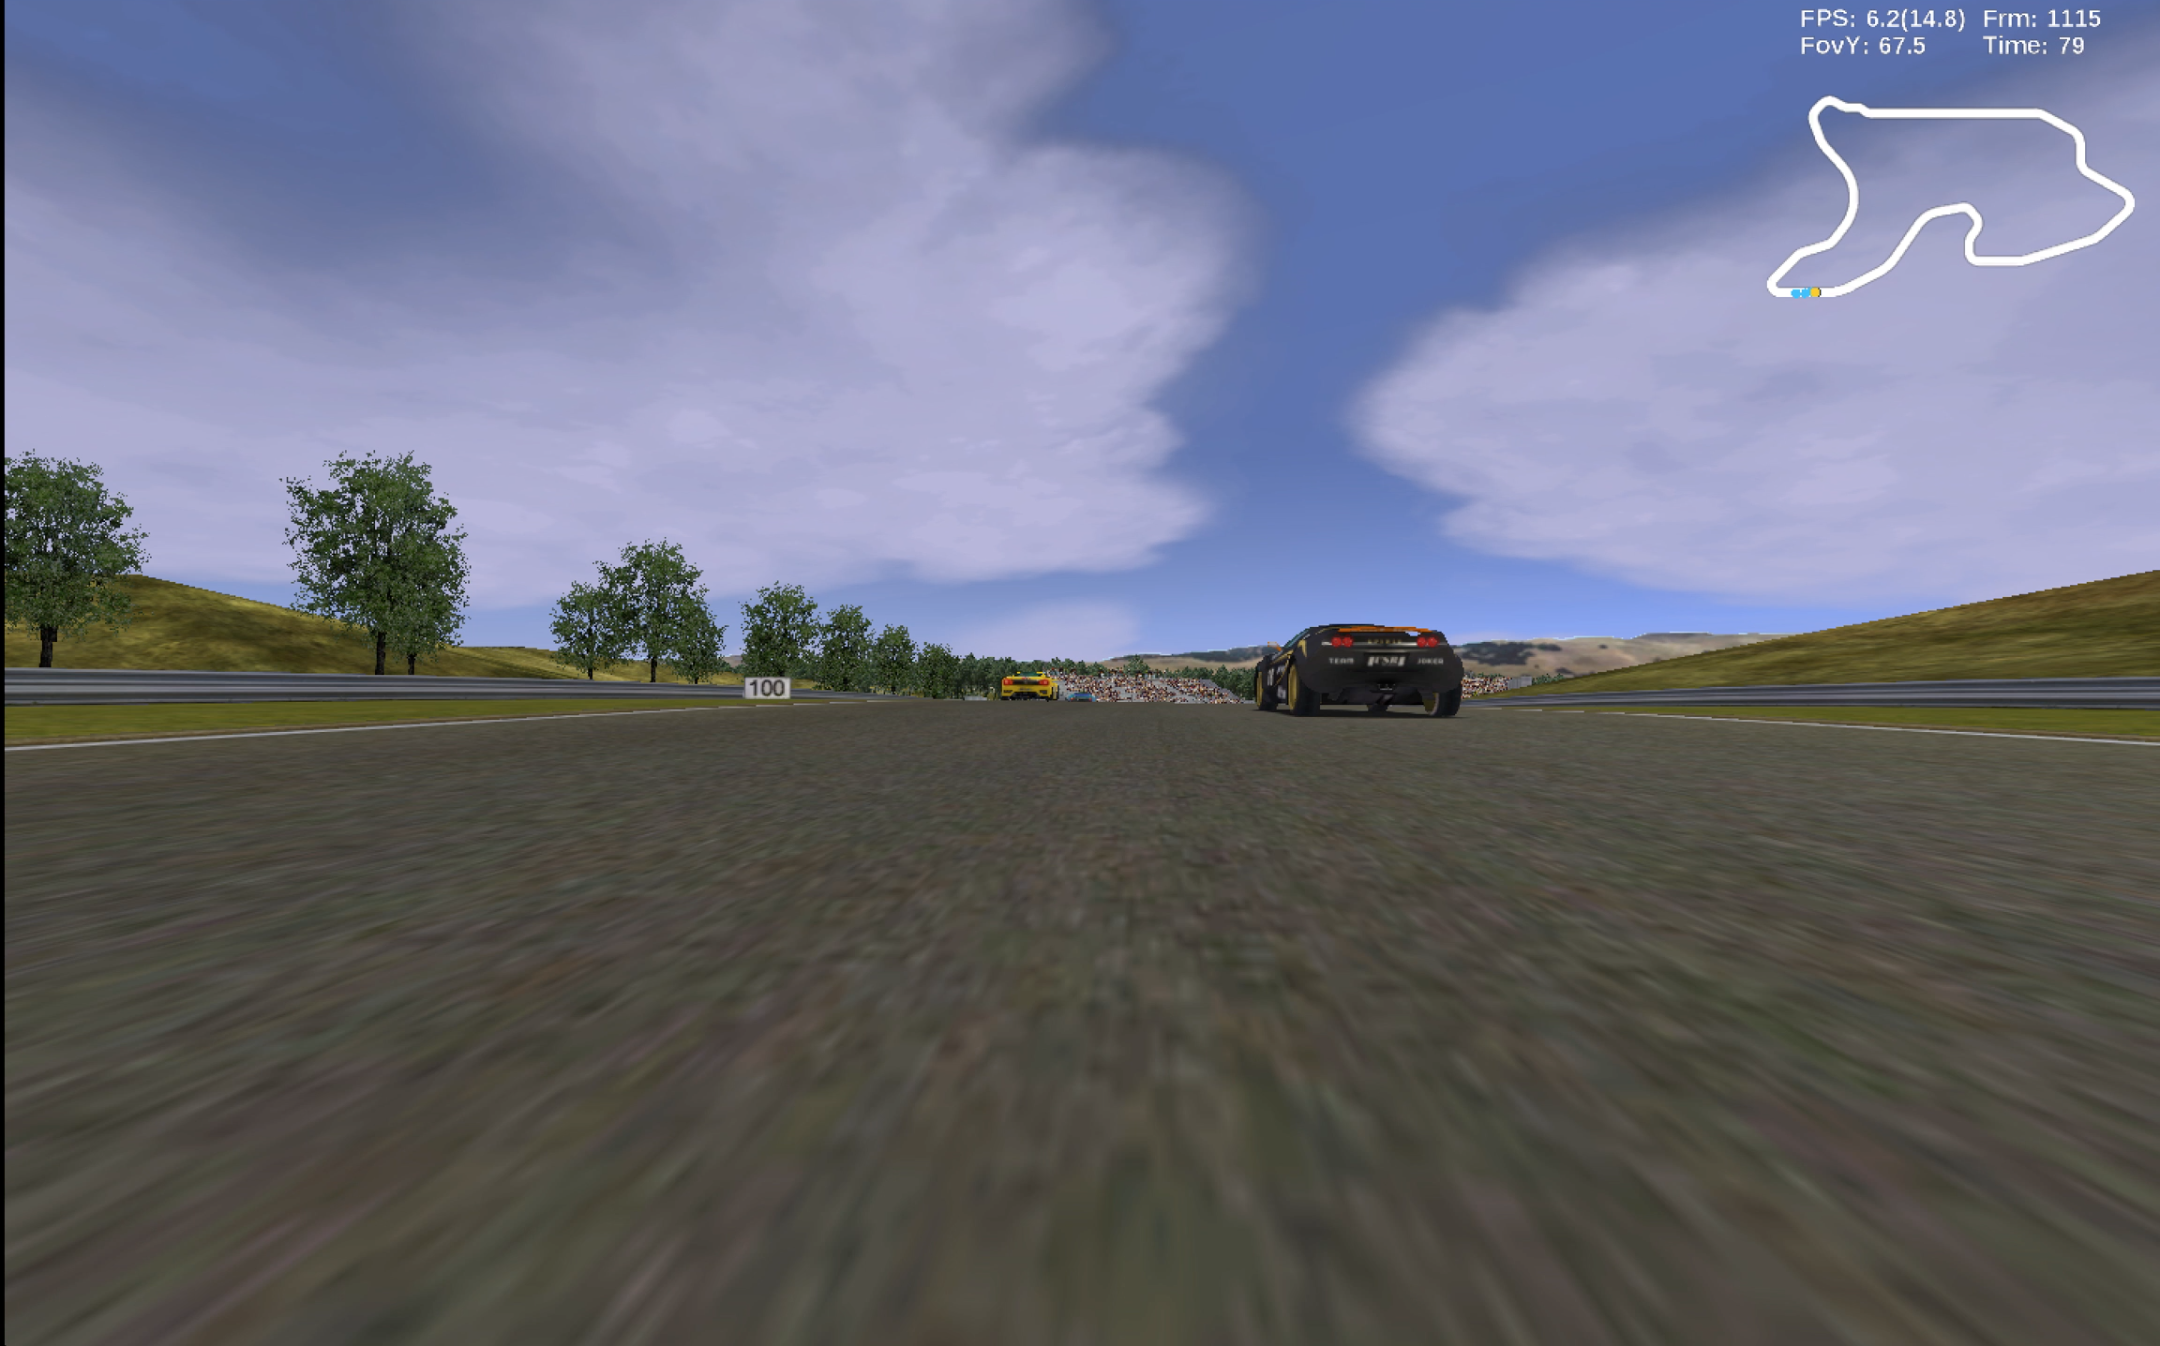Cavallo360: (999, 673, 1061, 702)
Spirit300: (1251, 622, 1465, 720)
